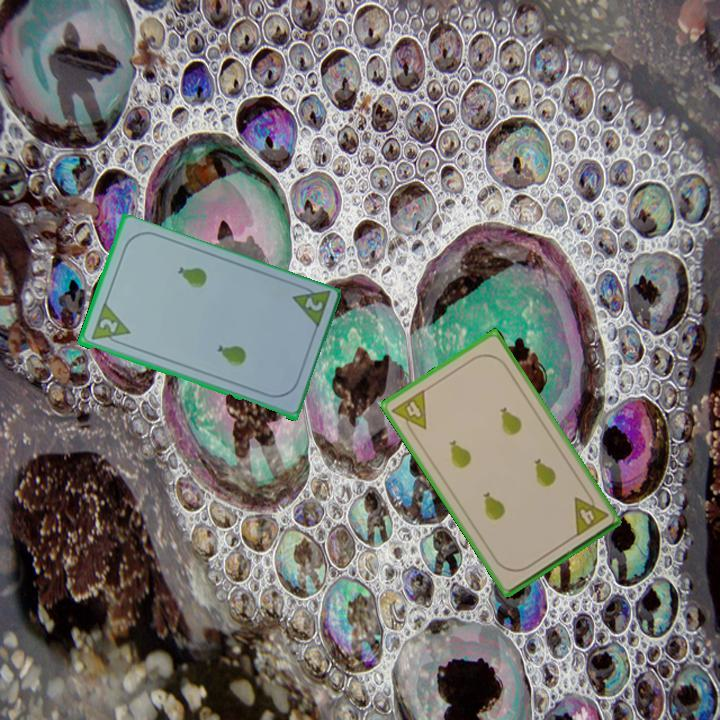2p: (87, 301, 132, 349), (301, 294, 326, 315)
4p: (388, 386, 429, 439), (570, 487, 611, 539)
